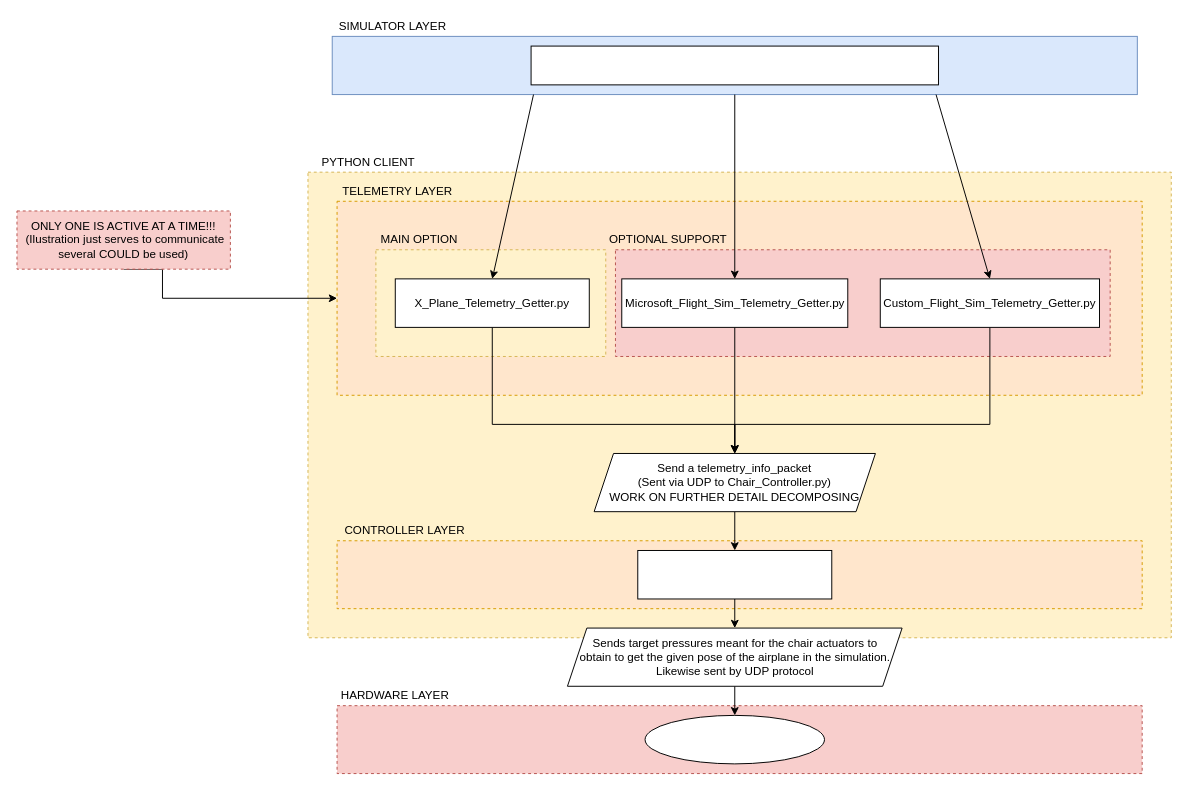
The diagram is 1188 pixels wide and 791 high, and some of its shapes have lost their labels. The centre of each missing label's shape, as x and y in pixels:
"Chair_Controller.py" goes at (x=734, y=574).
"Mechanical Chair PLC" goes at (x=734, y=739).
"Running Flight Simulator (X-Plane, Microsoft Flight Sim, etc...)" goes at (x=734, y=65).
